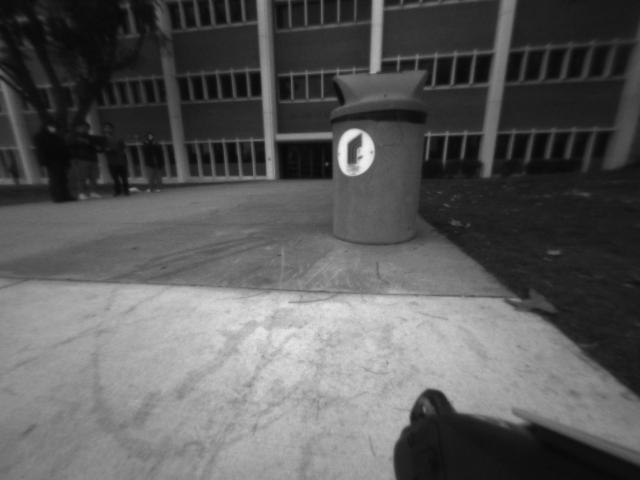trashcan: (319, 63, 435, 250)
